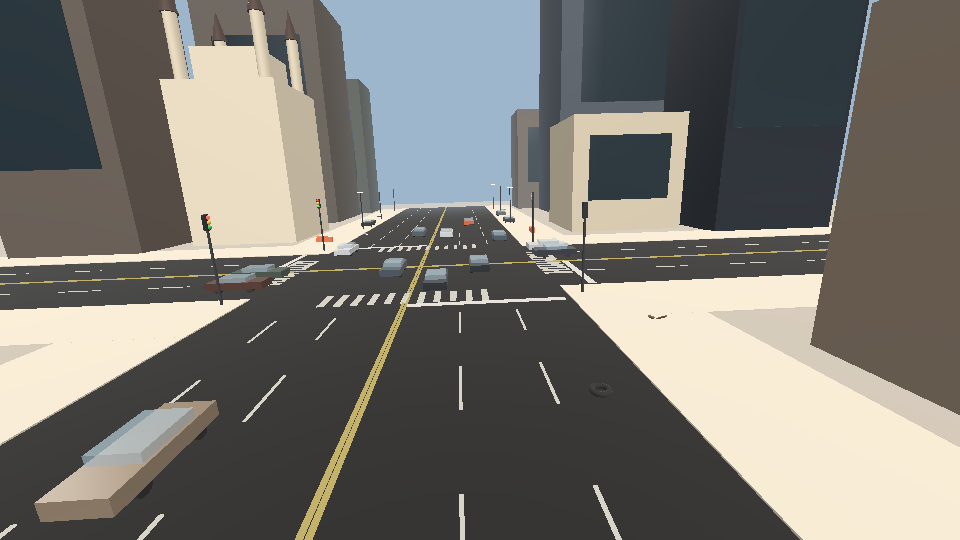unknown: (635, 305, 672, 331), (581, 379, 622, 402), (315, 236, 333, 243), (529, 226, 535, 234), (364, 232, 369, 235), (376, 215, 381, 217), (501, 209, 506, 210)
vehicle: (30, 391, 221, 533), (203, 272, 273, 295), (229, 263, 291, 283), (422, 265, 449, 295), (532, 243, 577, 259), (379, 256, 407, 281), (526, 238, 568, 252), (468, 252, 490, 275), (333, 241, 360, 259), (491, 229, 507, 243), (412, 226, 427, 239), (440, 227, 453, 239), (361, 219, 376, 228), (503, 215, 515, 224), (464, 217, 474, 226), (496, 209, 506, 216)
